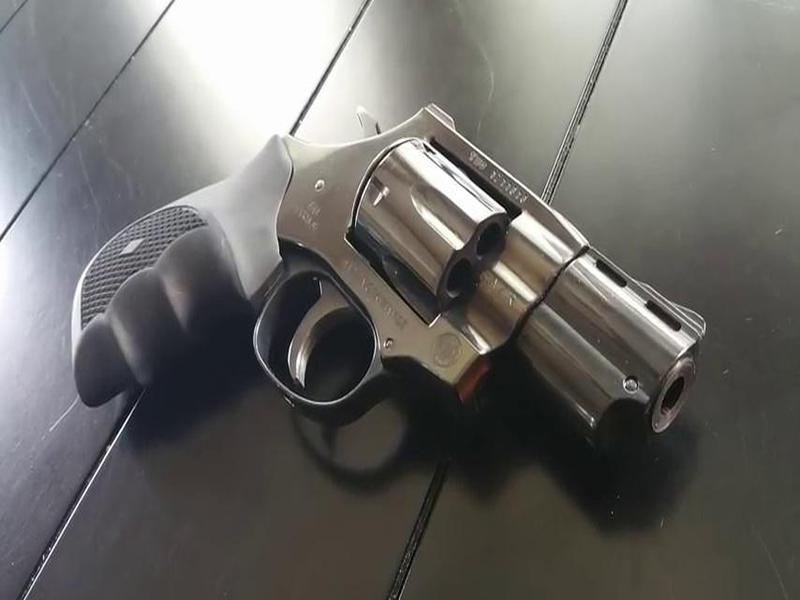Revolver: (54, 94, 719, 468)
